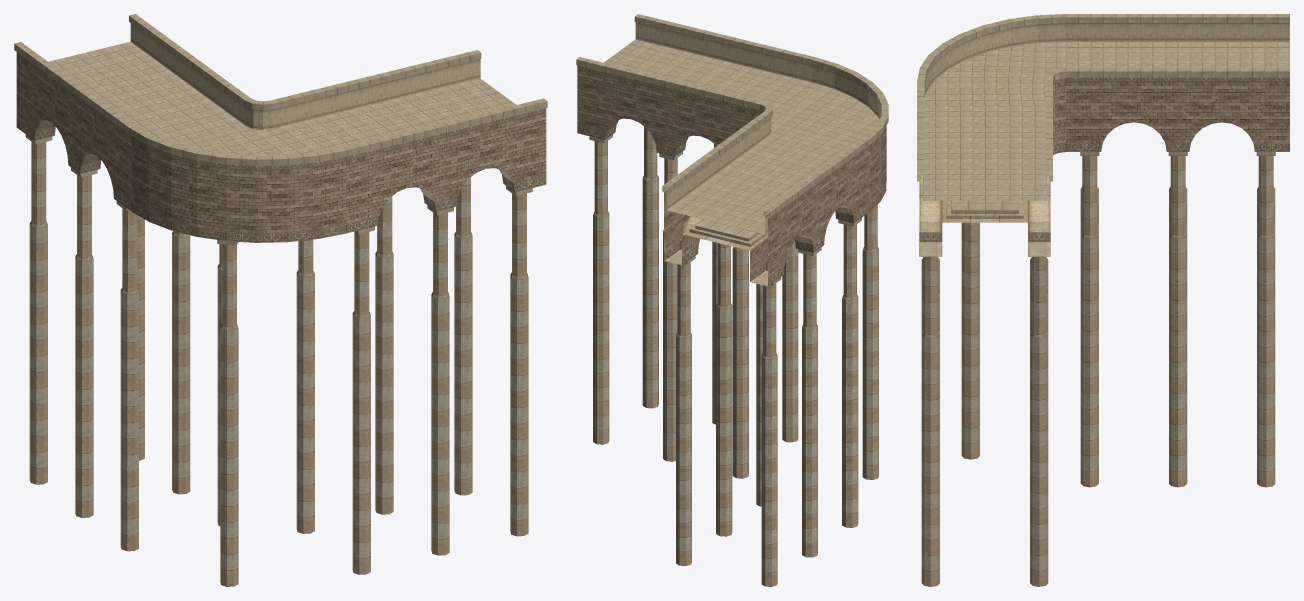
Rendered from thm_nboo_imprv_elevated_walkway_corner_s01_l0.fbx.
The picture shows the model from 3 angles, left to right: view 1: azimuth 30°, elevation 25°; view 2: azimuth 150°, elevation 25°; view 3: azimuth 270°, elevation 25°; orthographic projection. The views are drawn at different scales.
Parts seen in each view (by area): view 1: mesh_node; view 2: mesh_node; view 3: mesh_node.
Part boxes in pixels (bbox=[...]): mesh_node: bbox=[14, 14, 547, 586]; mesh_node: bbox=[576, 14, 888, 586]; mesh_node: bbox=[917, 14, 1289, 586].
Bounding box in the file's own units: 15.14 × 18.3 × 14.8.
